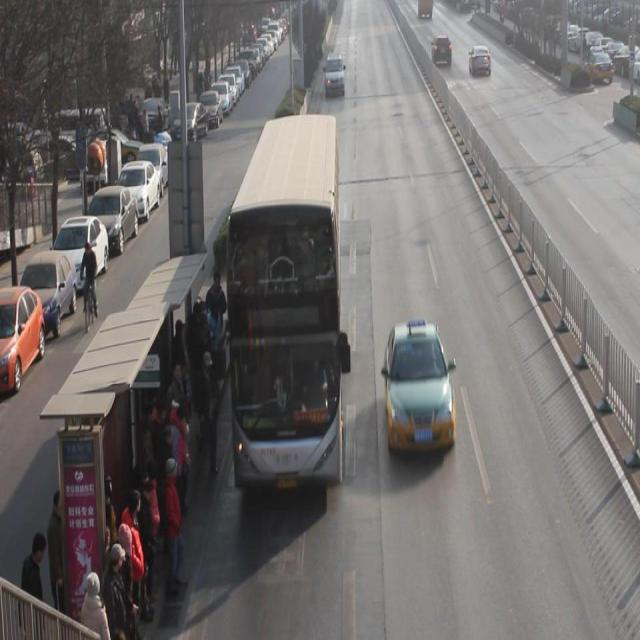car: (387, 324, 456, 452), (470, 44, 492, 79), (432, 35, 453, 68)
truck: (326, 51, 347, 100)
van: (224, 118, 342, 485)
